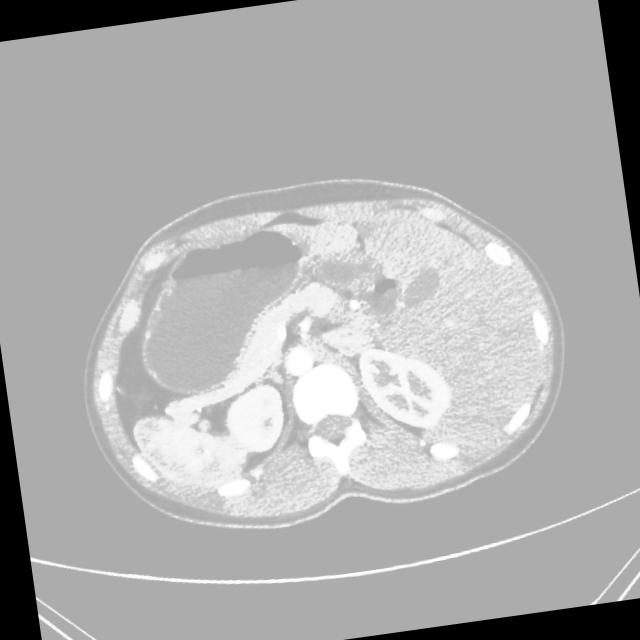NORMAL: (49, 130, 618, 560)
